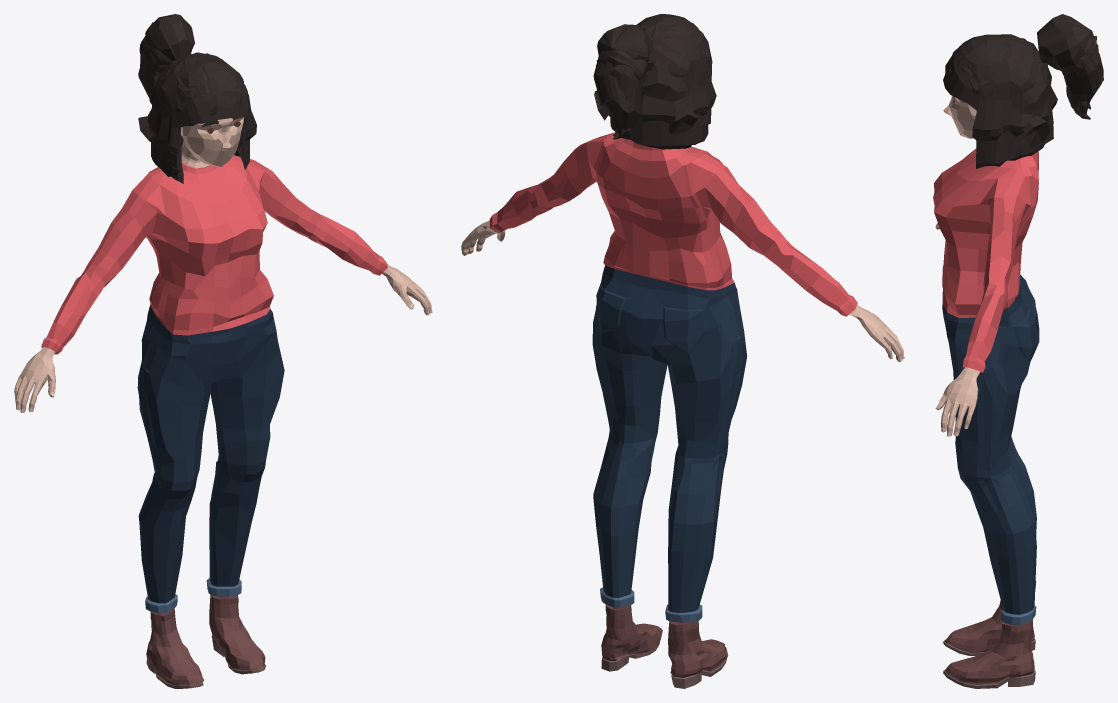
Rendered from character_NPC_F_02.fbx.
The picture shows the model from 3 angles, left to right: view 1: azimuth 30°, elevation 25°; view 2: azimuth 150°, elevation 25°; view 3: azimuth 270°, elevation 25°; orthographic projection. The views are drawn at different scales.
Visible parts, largest first — view 1: charaBody_npcF_V02_geo, charaHair_NPC_F_V02_geo, charaHair_NPC_F_V03_geo, charaHair_NPC_F_V08_geo, charaHair_NPC_F_V09_geo, charaHair_NPC_F_V07_geo, charaHair_NPC_F_V10_geo, charaHair_NPC_F_V01_geo, charaHair_NPC_F_V05_geo; view 2: charaBody_npcF_V02_geo, charaHair_NPC_F_V03_geo, charaHair_NPC_F_V05_geo, charaHair_NPC_F_V02_geo, charaHair_NPC_F_V01_geo, charaHair_NPC_F_V08_geo, charaHair_NPC_F_V10_geo, charaHair_NPC_F_V04_geo; view 3: charaBody_npcF_V02_geo, charaHair_NPC_F_V03_geo, charaHair_NPC_F_V08_geo, charaHair_NPC_F_V02_geo, charaHair_NPC_F_V05_geo, charaHair_NPC_F_V10_geo, charaHair_NPC_F_V01_geo, charaHair_NPC_F_V09_geo, charaHair_NPC_F_V07_geo, charaHair_NPC_F_V06_geo.
Part boxes in pixels (box(x1,y1,x2,y2)): charaBody_npcF_V02_geo: box(14, 117, 432, 688); charaHair_NPC_F_V02_geo: box(153, 54, 247, 171); charaHair_NPC_F_V03_geo: box(147, 54, 256, 183); charaHair_NPC_F_V08_geo: box(145, 14, 233, 88); charaHair_NPC_F_V09_geo: box(172, 58, 246, 118); charaHair_NPC_F_V07_geo: box(179, 26, 242, 137); charaHair_NPC_F_V10_geo: box(138, 52, 239, 141); charaHair_NPC_F_V01_geo: box(151, 90, 249, 180); charaHair_NPC_F_V05_geo: box(138, 22, 167, 99); charaBody_npcF_V02_geo: box(461, 132, 904, 688); charaHair_NPC_F_V03_geo: box(615, 25, 716, 149); charaHair_NPC_F_V05_geo: box(593, 50, 647, 139); charaHair_NPC_F_V02_geo: box(608, 20, 712, 126); charaHair_NPC_F_V01_geo: box(610, 117, 708, 145); charaHair_NPC_F_V08_geo: box(597, 24, 696, 74); charaHair_NPC_F_V10_geo: box(594, 14, 697, 134); charaHair_NPC_F_V04_geo: box(609, 58, 647, 134); charaBody_npcF_V02_geo: box(933, 96, 1039, 688); charaHair_NPC_F_V03_geo: box(947, 38, 1057, 168); charaHair_NPC_F_V08_geo: box(965, 14, 1091, 71); charaHair_NPC_F_V02_geo: box(952, 36, 1053, 148); charaHair_NPC_F_V05_geo: box(1062, 31, 1103, 119); charaHair_NPC_F_V10_geo: box(945, 34, 1050, 146); charaHair_NPC_F_V01_geo: box(950, 54, 1053, 163); charaHair_NPC_F_V09_geo: box(943, 36, 1038, 101); charaHair_NPC_F_V07_geo: box(945, 34, 1075, 81); charaHair_NPC_F_V06_geo: box(1006, 36, 1103, 118).
Bounding box in the file's own units: 323 × 467 × 112.
